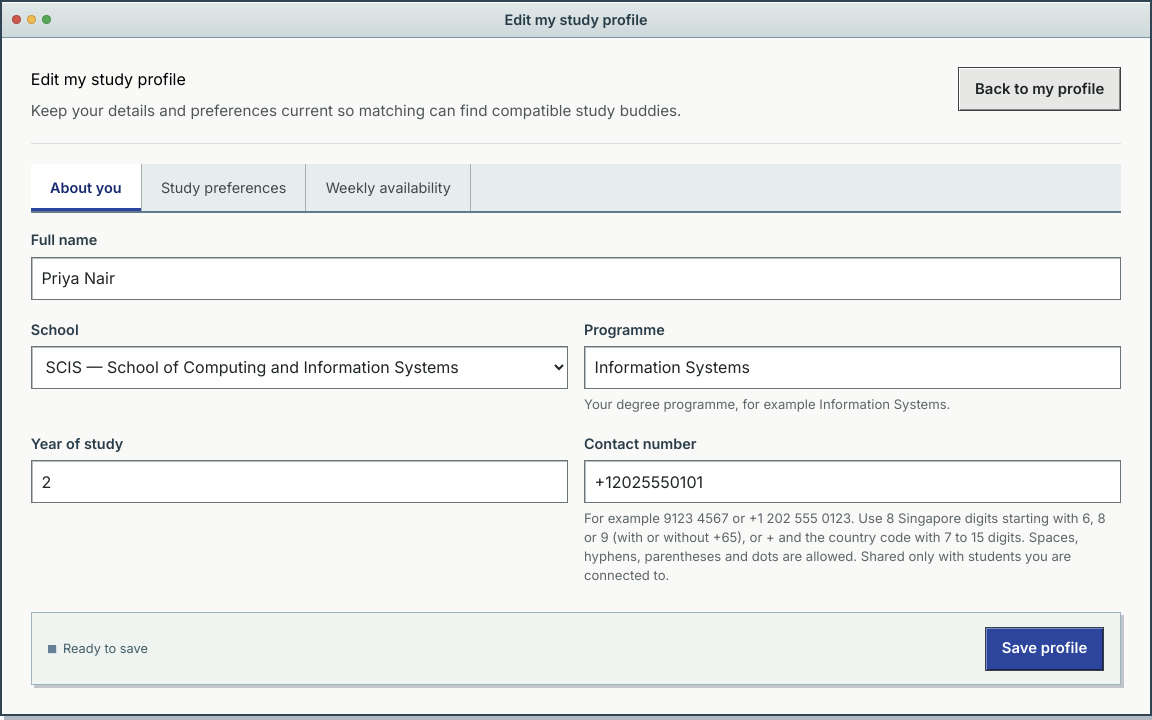
edit study profile › shows the saved profile and keeps edits when switching tabs
Expected: the field labelled "Contact number" holds "+12025550101", [584, 460, 1121, 503]
Replace the text in the field labelled "Full name" with "Priya N." at (576, 278), box [31, 257, 1121, 300]
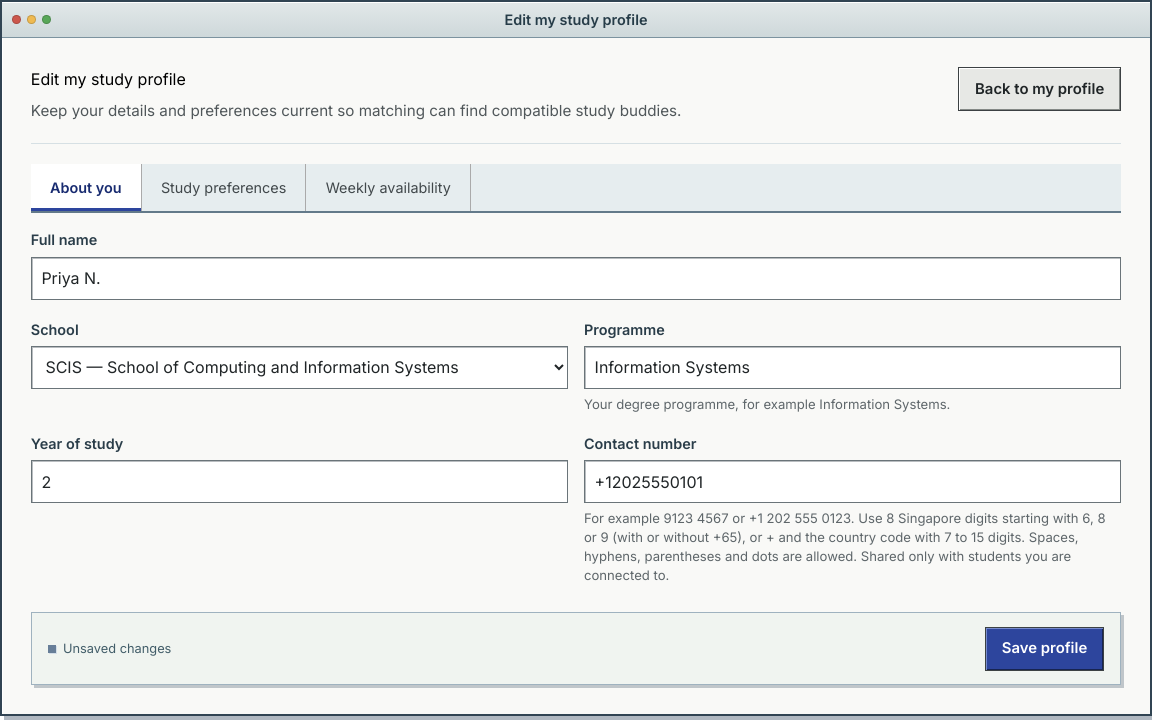
Now the text "Unsaved changes" is shown, box [48, 639, 171, 658]
Click the button "Study preferences".
click(224, 188)  # box [142, 164, 306, 211]
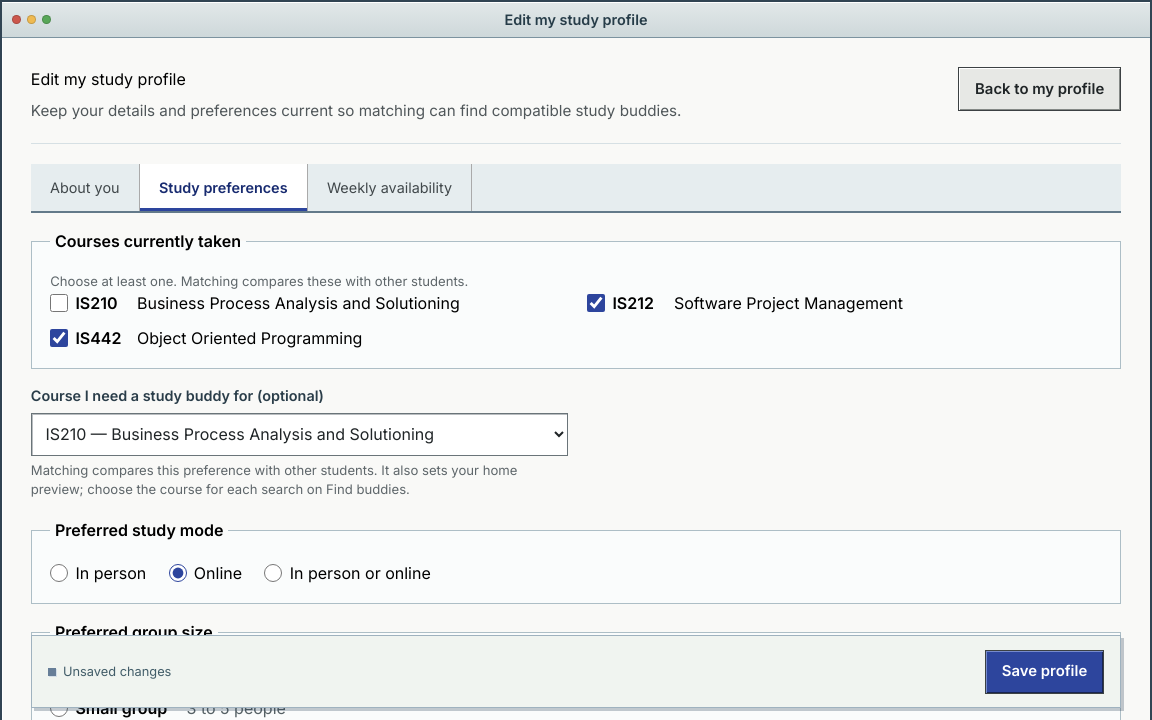
Now the checkbox labelled "IS442 Object Oriented Programming" is checked, box [50, 329, 68, 347]
Now the checkbox labelled "IS210 Business Process Analysis and Solutioning" is not checked, box [50, 294, 68, 312]
Now the radio button labelled "Online" is checked, box [169, 564, 187, 582]
Click the button "About you".
click(85, 188)  # box [31, 164, 140, 211]
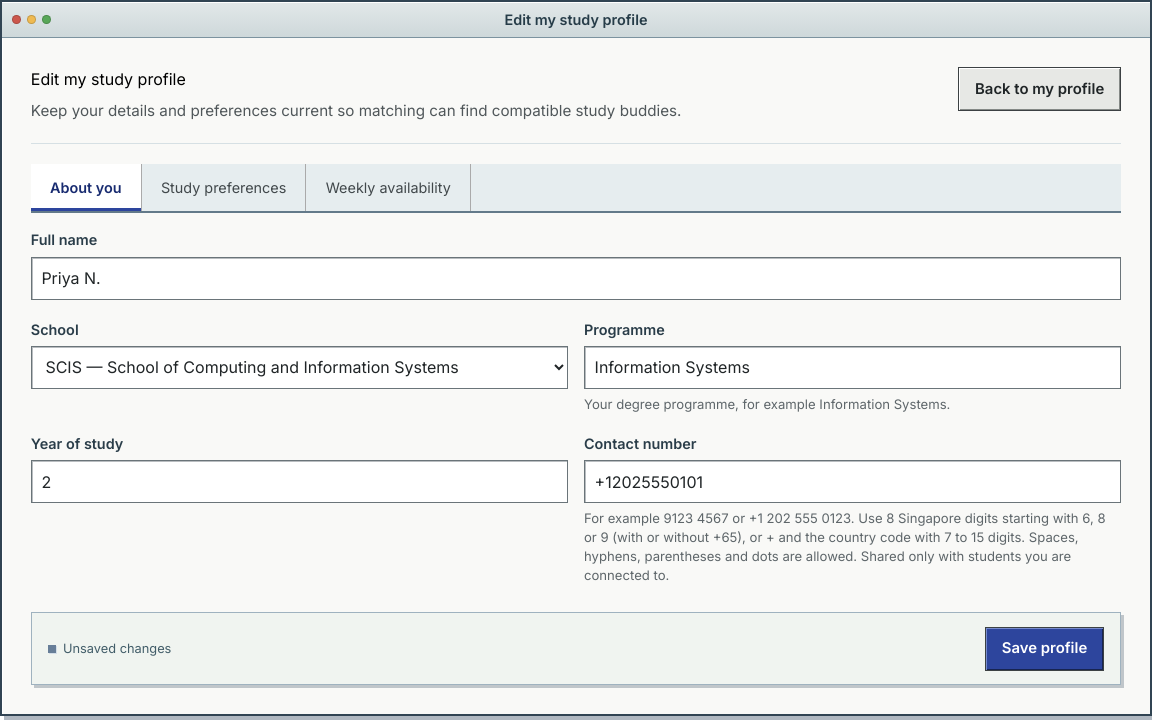
Now the field labelled "Full name" holds "Priya N.", box [31, 257, 1121, 300]
